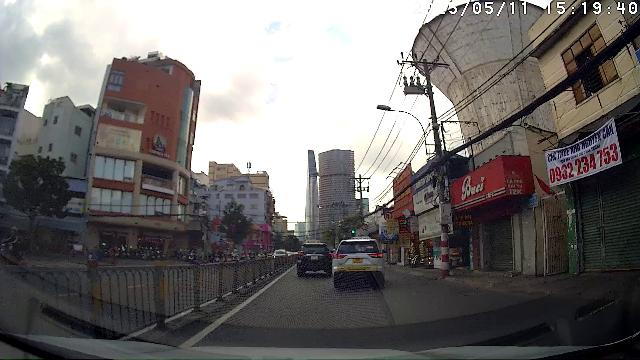124b-cam-oto-quay-dau-xe: (383, 212, 392, 220)
